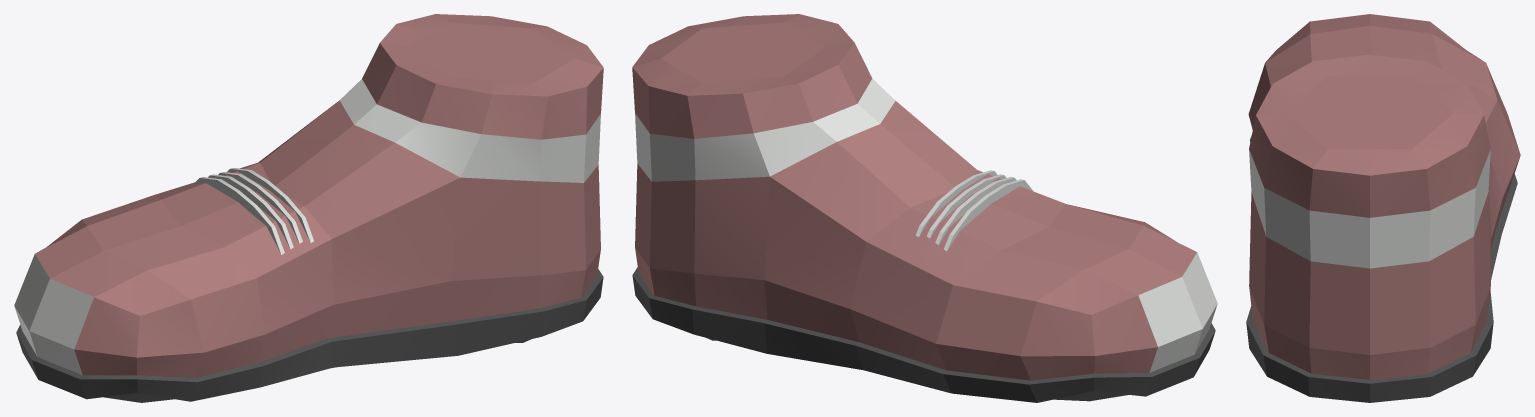
Rendered from RightShoe.fbx.
3 views of the same model, side by side, from view 1: azimuth 30°, elevation 25°; view 2: azimuth 150°, elevation 25°; view 3: azimuth 270°, elevation 25° (orthographic).
Visible parts, largest first — view 1: RightShoe2; view 2: RightShoe2; view 3: RightShoe2.
Boxes of the visible parts, <box> form: RightShoe2: <box>14,14,603,402</box>; RightShoe2: <box>632,14,1217,402</box>; RightShoe2: <box>1246,14,1520,402</box>.
Bounding box in the file's own units: 4.49 × 2.06 × 1.89.
